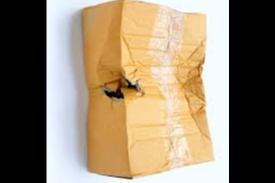damage_box: (81, 0, 216, 180)
